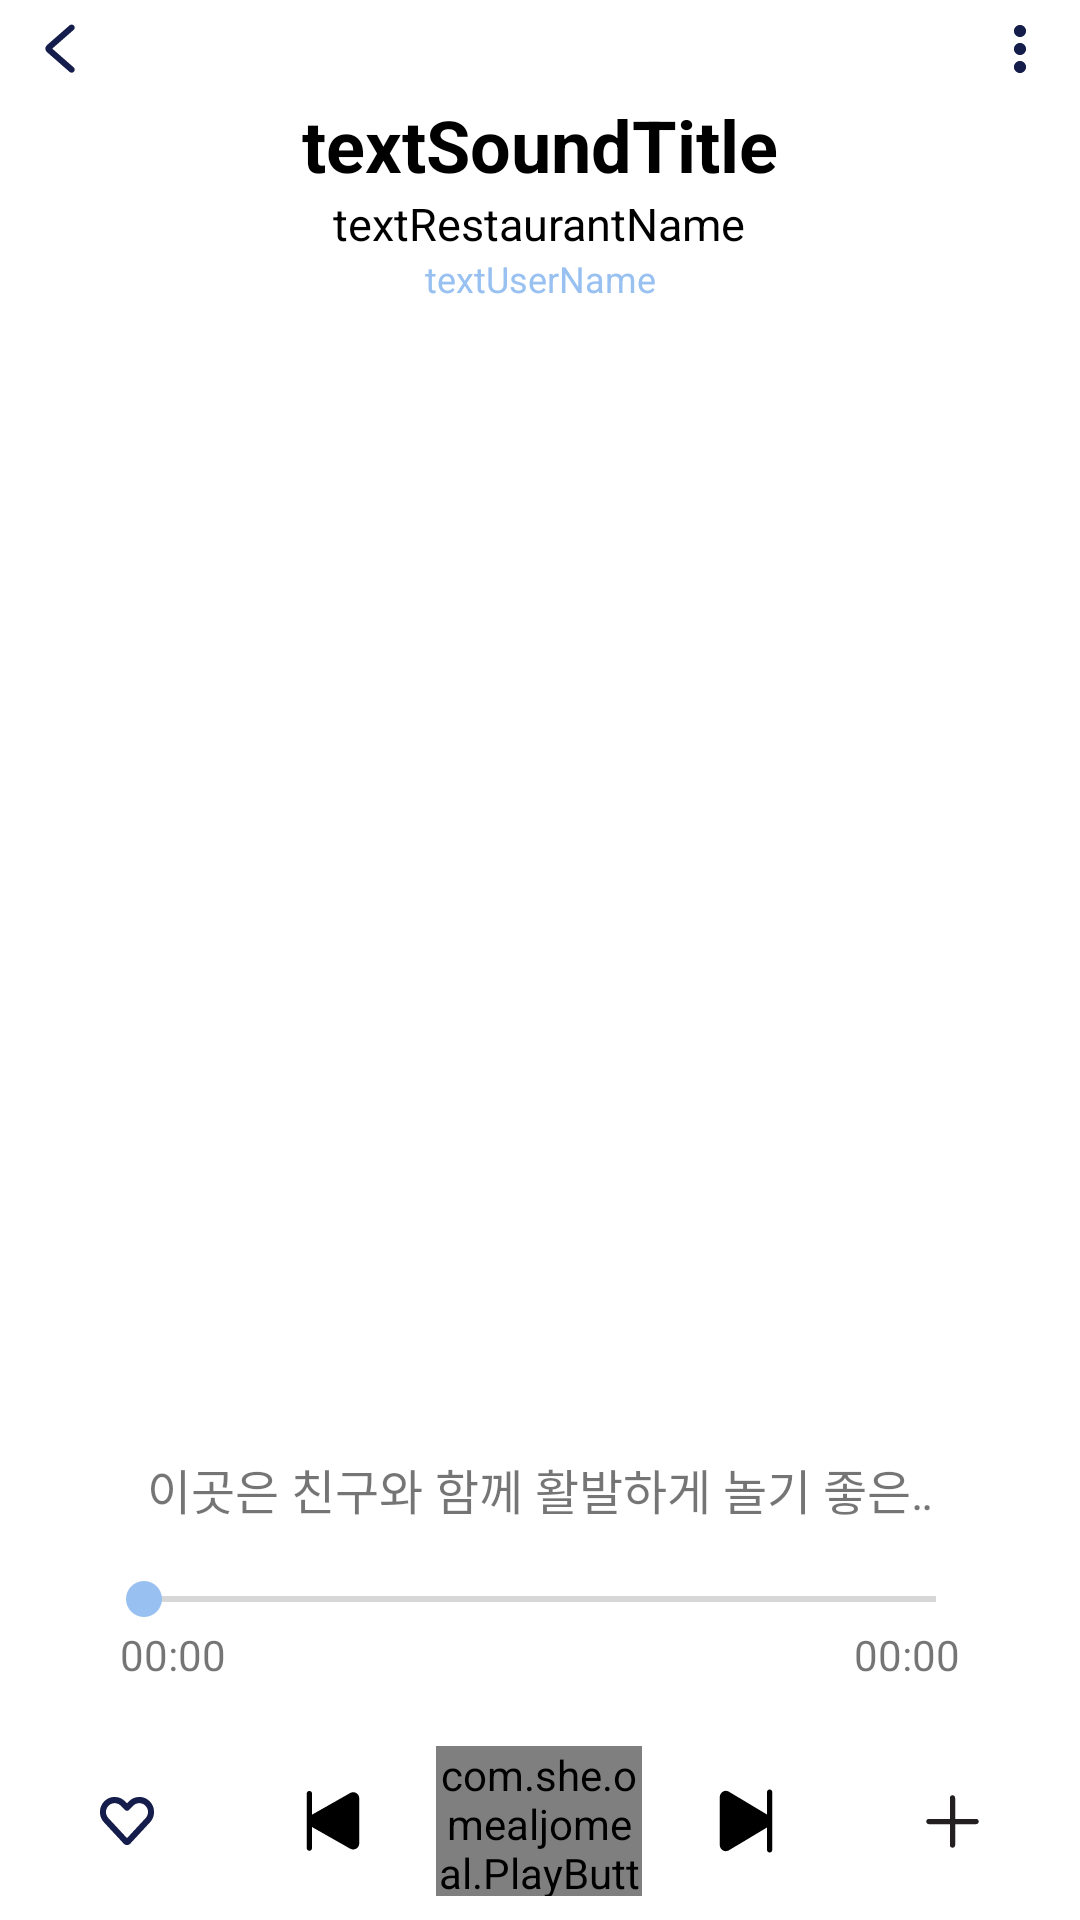

Icons on this 1080px×1920px Android screen, each with the point to tap as (x=x, y=y):
arrow left: (x=60, y=48)
heart: (x=127, y=1821)
more vertical: (x=1020, y=49)
play skip back: (x=333, y=1821)
play skip forward: (x=746, y=1821)
plus: (x=952, y=1821)
